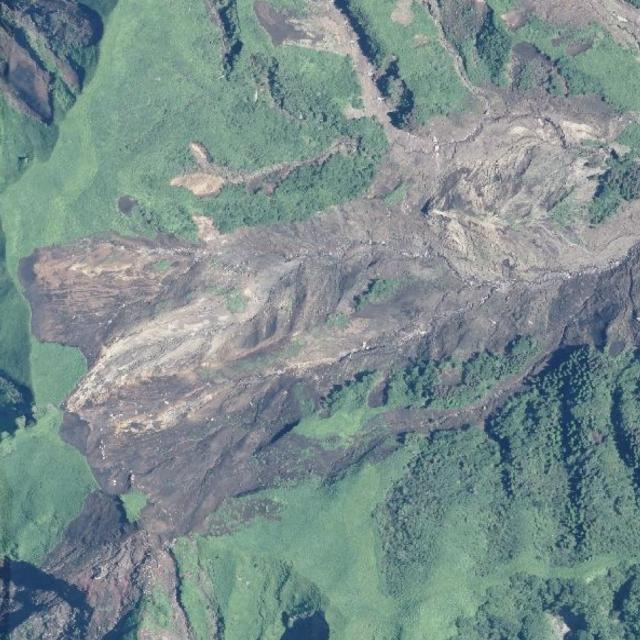landslide: (20, 1, 640, 638), (525, 0, 640, 59), (170, 172, 225, 197), (192, 215, 221, 242)
